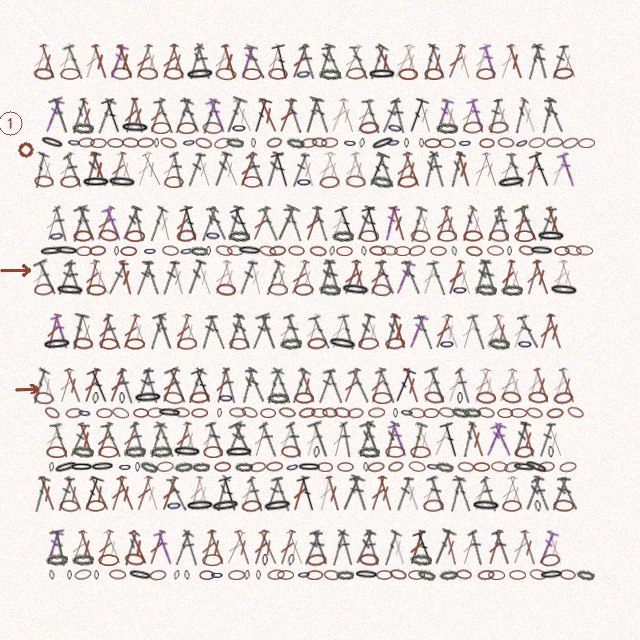chain: (327, 335, 358, 352), (496, 174, 527, 190), (370, 134, 396, 152), (523, 458, 549, 476), (340, 282, 371, 297), (210, 498, 241, 513), (262, 498, 293, 513), (39, 134, 65, 151), (185, 67, 215, 81), (107, 175, 137, 189), (55, 283, 85, 297), (549, 283, 579, 297), (42, 337, 72, 351), (53, 459, 79, 475), (120, 121, 150, 134), (133, 391, 163, 404), (172, 445, 202, 458), (185, 499, 215, 512), (471, 499, 501, 512), (127, 568, 153, 582), (367, 68, 397, 80), (81, 176, 111, 188), (536, 230, 566, 242), (224, 446, 254, 458), (370, 174, 393, 189), (423, 390, 445, 405), (98, 228, 119, 243), (501, 390, 522, 405), (124, 552, 145, 567), (215, 67, 237, 81), (39, 245, 64, 257), (512, 461, 537, 473), (33, 67, 54, 81), (202, 121, 223, 135), (319, 175, 340, 189), (410, 229, 431, 243), (371, 283, 392, 297), (33, 391, 54, 405), (163, 391, 184, 405), (553, 391, 574, 405), (514, 445, 535, 459), (59, 499, 80, 513), (241, 499, 262, 513), (306, 553, 327, 567), (540, 553, 561, 567), (43, 405, 61, 421), (319, 283, 341, 296), (475, 283, 497, 296), (280, 337, 302, 350), (488, 337, 510, 350), (72, 445, 94, 458), (124, 445, 146, 458), (150, 445, 172, 458), (46, 553, 68, 566), (72, 553, 94, 566), (410, 553, 432, 566), (240, 405, 259, 420), (566, 405, 585, 420), (139, 460, 159, 474), (54, 245, 79, 256), (237, 245, 262, 256), (529, 245, 554, 256), (157, 407, 182, 418), (90, 461, 115, 472), (354, 569, 379, 580), (539, 569, 564, 580), (111, 67, 132, 80), (553, 67, 574, 80), (488, 121, 509, 134), (345, 175, 366, 188), (397, 175, 418, 188), (176, 229, 197, 242), (358, 337, 379, 350), (189, 391, 210, 404), (423, 499, 444, 512), (553, 499, 574, 512), (159, 136, 178, 150), (194, 136, 213, 150), (213, 136, 232, 150), (561, 136, 580, 150), (258, 244, 277, 258), (111, 406, 130, 420), (525, 406, 544, 420), (503, 460, 522, 474), (417, 568, 436, 582), (319, 68, 341, 80), (72, 122, 94, 134), (436, 122, 458, 134), (228, 230, 250, 242), (332, 230, 354, 242), (501, 284, 523, 296), (267, 392, 289, 404), (358, 446, 380, 458), (138, 67, 158, 80), (164, 67, 184, 80), (346, 67, 366, 80), (359, 121, 379, 134), (463, 121, 483, 134), (34, 175, 54, 188), (60, 175, 80, 188), (489, 229, 509, 242), (34, 283, 54, 296), (216, 283, 236, 296), (268, 283, 288, 296), (294, 283, 314, 296), (73, 337, 93, 350), (177, 337, 197, 350), (307, 337, 327, 350), (385, 337, 405, 350), (476, 391, 496, 404), (528, 391, 548, 404), (281, 445, 301, 458), (359, 553, 379, 566), (386, 121, 404, 135), (514, 230, 535, 242), (46, 446, 67, 458), (98, 446, 119, 458), (410, 446, 431, 458), (98, 554, 119, 566), (202, 554, 223, 566), (69, 462, 94, 472), (297, 462, 322, 472), (451, 406, 470, 419), (60, 68, 80, 80), (242, 68, 262, 80), (268, 68, 288, 80), (398, 68, 418, 80), (424, 68, 444, 80), (476, 68, 496, 80), (151, 122, 171, 134), (177, 122, 197, 134), (164, 176, 184, 188), (242, 176, 262, 188), (73, 230, 93, 242), (125, 230, 145, 242), (359, 230, 379, 242), (437, 230, 457, 242), (463, 230, 483, 242), (86, 284, 106, 296), (99, 338, 119, 350), (125, 338, 145, 350), (229, 338, 249, 350), (294, 392, 314, 404), (372, 392, 392, 404), (203, 446, 223, 458), (385, 446, 405, 458), (86, 500, 106, 512), (502, 500, 522, 512), (295, 67, 312, 81), (48, 229, 65, 243), (528, 136, 546, 149), (215, 244, 233, 257), (408, 244, 426, 257), (564, 244, 582, 257), (278, 406, 296, 419), (298, 406, 316, 419), (333, 406, 351, 419), (438, 406, 456, 419), (477, 406, 495, 419), (387, 460, 405, 473), (408, 460, 426, 473), (74, 568, 92, 581), (389, 568, 407, 581), (529, 568, 547, 581), (286, 137, 305, 149), (174, 461, 193, 473), (435, 461, 454, 473), (439, 569, 458, 581), (576, 569, 595, 581), (514, 136, 530, 150), (266, 136, 283, 149), (518, 244, 535, 257), (300, 137, 318, 149), (309, 245, 327, 257), (465, 245, 483, 257), (65, 407, 83, 419), (408, 407, 426, 419), (546, 407, 564, 419), (249, 461, 267, 473), (367, 461, 385, 473), (457, 461, 475, 473), (559, 461, 577, 473), (149, 569, 167, 581), (477, 569, 495, 581), (205, 229, 221, 242), (166, 499, 182, 512), (347, 407, 364, 419), (323, 569, 340, 581), (226, 137, 244, 148), (497, 137, 515, 148), (463, 407, 481, 418), (156, 461, 174, 472), (267, 569, 285, 580), (231, 122, 247, 134), (296, 176, 312, 188), (452, 284, 468, 296), (439, 338, 455, 350), (517, 338, 533, 350), (218, 392, 234, 404), (78, 137, 95, 148), (122, 137, 139, 148), (137, 137, 154, 148), (311, 137, 328, 148), (321, 137, 338, 148), (546, 137, 563, 148), (89, 245, 106, 256), (162, 245, 179, 256), (227, 245, 244, 256), (269, 245, 286, 256), (288, 245, 305, 256), (369, 245, 386, 256), (381, 245, 398, 256), (487, 245, 504, 256), (576, 245, 593, 256), (147, 407, 164, 418), (173, 407, 190, 418), (229, 407, 246, 418), (368, 407, 385, 418), (214, 461, 231, 472), (266, 461, 283, 472), (491, 461, 508, 472), (538, 461, 555, 472), (109, 569, 126, 580), (559, 569, 576, 580), (179, 245, 194, 257), (190, 246, 208, 256), (77, 407, 92, 419), (192, 462, 210, 472), (235, 462, 253, 472), (285, 461, 300, 473), (336, 570, 354, 580), (322, 407, 338, 418), (456, 569, 472, 580), (90, 138, 107, 148), (107, 138, 124, 148), (424, 138, 441, 148), (439, 138, 456, 148), (578, 138, 595, 148), (120, 246, 137, 256), (336, 246, 353, 256), (394, 246, 411, 256), (430, 246, 447, 256), (96, 408, 113, 418), (191, 408, 208, 418), (311, 408, 328, 418), (510, 408, 527, 418), (337, 462, 354, 472), (473, 462, 490, 472), (228, 570, 245, 580), (277, 570, 294, 580), (306, 570, 323, 580), (376, 570, 393, 580), (408, 570, 425, 580), (488, 570, 505, 580), (509, 570, 526, 580), (386, 137, 401, 148), (479, 138, 495, 148), (76, 246, 92, 256), (554, 246, 570, 256), (133, 408, 149, 418), (260, 408, 276, 418), (423, 408, 439, 418), (497, 408, 513, 418), (317, 462, 333, 472), (199, 570, 215, 580), (67, 137, 81, 148), (182, 137, 196, 148), (400, 407, 414, 418), (426, 461, 440, 472), (297, 569, 311, 580), (343, 138, 357, 148), (458, 138, 472, 148), (143, 246, 157, 256), (118, 462, 132, 472), (210, 570, 224, 580), (534, 500, 542, 512), (287, 554, 295, 566), (92, 392, 99, 404), (313, 446, 320, 458), (119, 392, 125, 404), (457, 392, 463, 404), (548, 446, 554, 458), (262, 554, 268, 566), (451, 246, 458, 256), (173, 570, 180, 580), (359, 138, 365, 148), (329, 246, 335, 256), (361, 246, 367, 256), (363, 462, 369, 472), (49, 570, 55, 580), (184, 570, 190, 580), (244, 570, 250, 580), (154, 138, 159, 148), (251, 138, 256, 148), (404, 138, 409, 148), (419, 138, 424, 148), (114, 246, 119, 256), (206, 246, 211, 256), (507, 246, 512, 256), (217, 408, 222, 418), (393, 408, 398, 418), (49, 462, 54, 472), (135, 462, 140, 472), (67, 570, 72, 580), (94, 570, 99, 580), (256, 570, 261, 580)
double: (228, 420, 258, 459), (272, 204, 301, 243), (514, 204, 543, 243), (33, 258, 62, 297), (337, 474, 366, 513), (73, 204, 101, 243), (164, 366, 192, 405), (429, 528, 457, 567), (364, 150, 391, 190), (86, 366, 113, 406), (390, 366, 417, 406), (229, 205, 257, 243), (221, 96, 248, 135), (255, 312, 282, 351), (424, 366, 451, 405), (307, 420, 334, 459), (359, 420, 386, 459), (528, 151, 555, 189), (190, 367, 217, 405), (48, 96, 74, 135), (152, 312, 178, 351), (100, 97, 126, 135), (404, 97, 430, 135), (256, 205, 282, 243), (334, 205, 360, 243), (308, 313, 334, 351), (79, 475, 105, 513), (412, 529, 438, 567), (300, 96, 325, 135), (339, 43, 365, 80), (391, 43, 417, 80), (230, 97, 256, 134), (139, 151, 165, 188), (87, 259, 113, 296), (87, 475, 113, 512), (222, 529, 248, 566), (321, 43, 346, 81), (365, 43, 390, 81), (92, 97, 117, 135), (170, 97, 195, 135), (261, 259, 286, 297), (183, 367, 208, 405), (287, 367, 312, 405), (347, 367, 372, 405), (100, 421, 125, 459), (170, 529, 195, 567), (373, 43, 398, 80), (256, 97, 281, 134), (352, 97, 377, 134), (287, 259, 312, 296), (482, 313, 507, 350), (495, 367, 520, 404), (412, 421, 437, 458), (430, 421, 455, 458), (482, 421, 507, 458), (490, 421, 515, 458), (126, 529, 151, 566), (256, 529, 281, 566), (352, 529, 377, 566), (62, 43, 86, 81), (153, 97, 177, 135), (197, 97, 221, 135), (249, 97, 273, 135), (270, 151, 294, 189), (145, 205, 169, 243), (179, 205, 203, 243), (361, 205, 385, 243), (426, 259, 450, 297), (205, 313, 229, 351), (413, 313, 437, 351), (270, 367, 294, 405), (322, 367, 346, 405), (374, 367, 398, 405), (153, 421, 177, 459), (439, 421, 463, 459), (218, 475, 242, 513), (296, 475, 320, 513), (379, 529, 403, 567), (288, 43, 312, 80), (444, 43, 468, 80), (556, 43, 580, 80), (41, 97, 65, 134), (205, 97, 229, 134), (275, 97, 299, 134), (327, 97, 351, 134), (439, 97, 463, 134), (218, 151, 242, 188), (236, 151, 260, 188), (314, 151, 338, 188), (400, 151, 424, 188), (548, 151, 572, 188), (93, 205, 117, 242), (101, 205, 125, 242), (119, 205, 143, 242), (249, 205, 273, 242), (465, 205, 489, 242), (210, 259, 234, 296), (340, 259, 364, 296), (392, 259, 416, 296), (361, 313, 385, 350), (405, 313, 429, 350), (431, 313, 455, 350), (439, 313, 463, 350), (36, 367, 60, 404), (158, 367, 182, 404), (470, 367, 494, 404), (41, 421, 65, 458), (387, 421, 411, 458), (62, 475, 86, 512), (114, 475, 138, 512), (496, 475, 520, 512), (101, 529, 125, 566), (283, 529, 307, 566), (535, 529, 559, 566), (361, 97, 384, 135), (67, 205, 90, 243), (283, 205, 306, 243), (405, 205, 428, 243), (67, 313, 90, 351), (28, 367, 51, 405), (262, 367, 285, 405), (49, 421, 72, 459), (145, 421, 168, 459), (270, 475, 293, 513), (452, 475, 475, 513), (49, 529, 72, 567), (327, 529, 350, 567), (106, 43, 129, 80), (114, 43, 137, 80), (132, 43, 155, 80), (158, 43, 181, 80), (210, 43, 233, 80), (496, 43, 519, 80), (504, 43, 527, 80), (457, 97, 480, 134), (491, 97, 514, 134), (517, 97, 540, 134), (36, 151, 59, 188), (88, 151, 111, 188), (158, 151, 181, 188), (322, 151, 345, 188), (348, 151, 371, 188), (392, 151, 415, 188), (470, 151, 493, 188), (496, 151, 519, 188), (556, 151, 579, 188), (353, 205, 376, 242), (413, 205, 436, 242), (439, 205, 462, 242), (543, 205, 566, 242), (184, 259, 207, 296), (366, 259, 389, 296), (444, 259, 467, 296), (504, 259, 527, 296), (530, 259, 553, 296), (556, 259, 579, 296), (119, 313, 142, 350), (179, 313, 202, 350), (275, 313, 298, 350), (283, 313, 306, 350), (327, 313, 350, 350), (491, 313, 514, 350), (509, 313, 532, 350), (62, 367, 85, 404), (80, 367, 103, 404), (106, 367, 129, 404), (296, 367, 319, 404), (340, 367, 363, 404), (444, 367, 467, 404), (478, 367, 501, 404), (556, 367, 579, 404), (75, 421, 98, 458), (93, 421, 116, 458), (119, 421, 142, 458), (205, 421, 228, 458), (275, 421, 298, 458), (543, 421, 566, 458), (36, 475, 59, 512), (158, 475, 181, 512), (418, 475, 441, 512), (426, 475, 449, 512), (470, 475, 493, 512), (522, 475, 545, 512), (530, 475, 553, 512), (67, 529, 90, 566), (145, 529, 168, 566), (153, 529, 176, 566), (205, 529, 228, 566), (309, 529, 332, 566), (491, 529, 514, 566), (509, 529, 532, 566), (271, 43, 293, 81), (523, 43, 545, 81), (466, 313, 488, 351), (406, 421, 428, 459), (29, 475, 51, 513), (445, 475, 467, 513), (244, 44, 267, 80), (62, 152, 85, 188), (106, 260, 129, 296), (517, 314, 540, 350), (166, 476, 189, 512), (29, 43, 51, 80), (37, 43, 59, 80), (81, 43, 103, 80), (89, 43, 111, 80), (141, 43, 163, 80), (167, 43, 189, 80), (427, 43, 449, 80), (146, 97, 168, 134), (336, 97, 358, 134), (432, 97, 454, 134), (466, 97, 488, 134), (55, 151, 77, 188), (107, 151, 129, 188), (115, 151, 137, 188), (133, 151, 155, 188), (211, 151, 233, 188), (245, 151, 267, 188), (341, 151, 363, 188), (479, 151, 501, 188), (206, 205, 228, 242), (302, 205, 324, 242), (328, 205, 350, 242), (432, 205, 454, 242), (63, 259, 85, 296), (193, 259, 215, 296), (271, 259, 293, 296), (323, 259, 345, 296), (419, 259, 441, 296), (453, 259, 475, 296), (479, 259, 501, 296), (549, 259, 571, 296), (50, 313, 72, 350), (76, 313, 98, 350), (128, 313, 150, 350), (172, 313, 194, 350), (354, 313, 376, 350), (388, 313, 410, 350), (544, 313, 566, 350), (55, 367, 77, 404), (401, 367, 423, 404), (419, 367, 441, 404), (505, 367, 527, 404), (531, 367, 553, 404), (549, 367, 571, 404), (172, 421, 194, 458), (224, 421, 246, 458), (258, 421, 280, 458), (302, 421, 324, 458), (354, 421, 376, 458), (466, 421, 488, 458), (510, 421, 532, 458), (107, 475, 129, 512), (133, 475, 155, 512), (237, 475, 259, 512), (349, 475, 371, 512), (367, 475, 389, 512), (401, 475, 423, 512), (505, 475, 527, 512), (549, 475, 571, 512), (557, 475, 579, 512), (42, 529, 64, 566), (76, 529, 98, 566), (94, 529, 116, 566), (232, 529, 254, 566), (250, 529, 272, 566), (276, 529, 298, 566), (406, 529, 428, 566), (458, 529, 480, 566), (484, 529, 506, 566), (518, 529, 540, 566), (544, 529, 566, 566), (419, 43, 440, 81), (198, 206, 220, 242), (484, 206, 506, 242), (102, 314, 124, 350), (68, 422, 90, 458), (55, 43, 76, 80), (193, 43, 214, 80), (219, 43, 240, 80), (237, 43, 258, 80), (315, 43, 336, 80), (401, 43, 422, 80), (453, 43, 474, 80), (471, 43, 492, 80), (479, 43, 500, 80), (531, 43, 552, 80), (180, 97, 201, 134), (414, 97, 435, 134), (544, 97, 565, 134), (185, 151, 206, 188), (193, 151, 214, 188), (263, 151, 284, 188), (453, 151, 474, 188), (523, 151, 544, 188), (42, 205, 63, 242), (224, 205, 245, 242), (388, 205, 409, 242), (29, 259, 50, 296), (237, 259, 258, 296), (297, 259, 318, 296), (349, 259, 370, 296), (375, 259, 396, 296), (401, 259, 422, 296), (471, 259, 492, 296), (523, 259, 544, 296), (224, 313, 245, 350), (302, 313, 323, 350), (458, 313, 479, 350), (536, 313, 557, 350), (237, 367, 258, 404), (245, 367, 266, 404), (367, 367, 388, 404), (180, 421, 201, 458), (250, 421, 271, 458), (518, 421, 539, 458), (141, 475, 162, 512), (193, 475, 214, 512), (289, 475, 310, 512), (323, 475, 344, 512), (375, 475, 396, 512), (198, 529, 219, 566), (388, 529, 409, 566), (30, 151, 50, 189), (337, 313, 357, 351), (349, 44, 370, 80), (380, 98, 401, 134), (250, 314, 271, 350), (479, 476, 500, 512), (302, 530, 323, 566), (264, 43, 284, 80), (298, 43, 318, 80), (77, 97, 97, 134), (537, 97, 557, 134), (82, 151, 102, 188), (298, 151, 318, 188), (428, 151, 448, 188), (446, 151, 466, 188), (173, 205, 193, 242), (493, 205, 513, 242), (511, 205, 531, 242), (82, 259, 102, 296), (116, 259, 136, 296), (160, 259, 180, 296), (168, 259, 188, 296), (220, 259, 240, 296), (316, 259, 336, 296), (498, 259, 518, 296), (43, 313, 63, 350), (95, 313, 115, 350), (381, 313, 401, 350), (134, 367, 154, 404), (212, 367, 232, 404), (524, 367, 544, 404), (285, 421, 305, 458), (329, 421, 349, 458), (186, 475, 206, 512), (394, 475, 414, 512), (441, 529, 461, 566), (69, 98, 89, 134), (290, 152, 310, 188), (376, 152, 396, 188), (537, 206, 557, 242), (56, 260, 76, 296), (134, 260, 154, 296), (147, 314, 167, 350), (116, 368, 136, 404), (316, 368, 336, 404), (246, 476, 266, 512), (121, 530, 141, 566), (181, 530, 201, 566), (186, 43, 205, 80), (550, 43, 569, 80), (121, 97, 140, 134), (129, 97, 148, 134), (285, 97, 304, 134), (420, 151, 439, 188), (506, 151, 525, 188), (155, 205, 174, 242), (381, 205, 400, 242), (459, 205, 478, 242), (142, 259, 161, 296), (246, 259, 265, 296), (199, 313, 218, 350), (233, 313, 252, 350), (142, 367, 161, 404), (454, 367, 473, 404), (129, 421, 148, 458), (199, 421, 218, 458), (381, 421, 400, 458), (537, 421, 556, 458), (264, 475, 283, 512), (316, 475, 335, 512), (337, 529, 356, 566), (363, 529, 382, 566), (467, 529, 486, 566), (56, 476, 75, 512), (312, 97, 330, 134), (390, 97, 408, 134), (52, 205, 70, 242), (312, 205, 330, 242), (221, 367, 239, 404), (213, 475, 231, 512), (512, 97, 529, 134), (169, 151, 186, 188), (460, 421, 477, 458), (487, 97, 503, 134), (131, 205, 146, 242), (339, 421, 354, 458)
noise: (0, 109, 24, 137), (15, 139, 36, 160), (0, 264, 33, 277), (14, 384, 41, 394)
